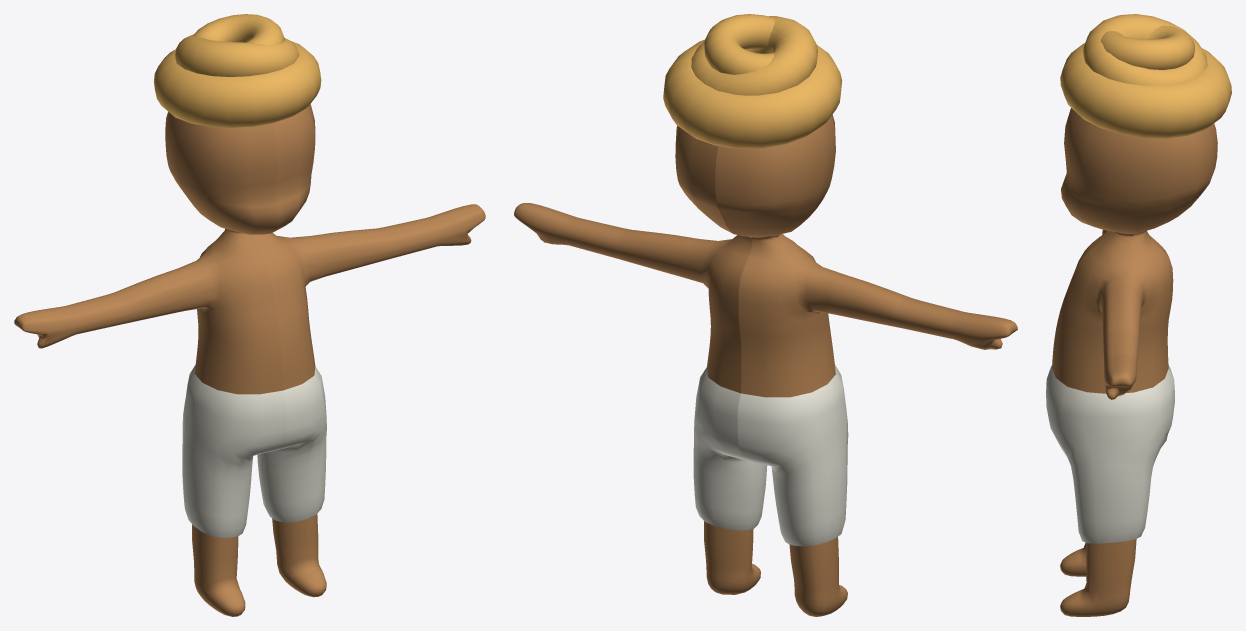
File: SK_Man_Halfnaked.fbx
3 views of the same model, side by side, from view 1: azimuth 30°, elevation 25°; view 2: azimuth 150°, elevation 25°; view 3: azimuth 270°, elevation 25° (orthographic). The views are drawn at different scales.
Visible parts, largest first — view 1: Box003; view 2: Box003; view 3: Box003.
Boxes of the visible parts, x1,y1,x2,y2 form: Box003: (14,14,485,616); Box003: (514,14,1017,616); Box003: (1046,14,1231,616).
Size of the model in its own units: 145 by 165 by 49.2.
